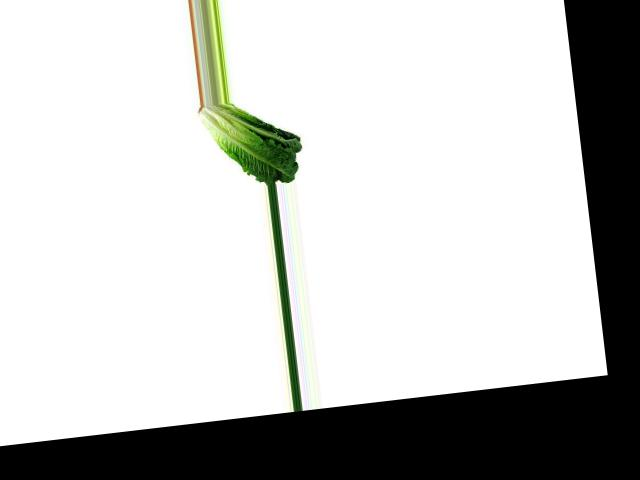lettuce: (196, 95, 307, 191)
